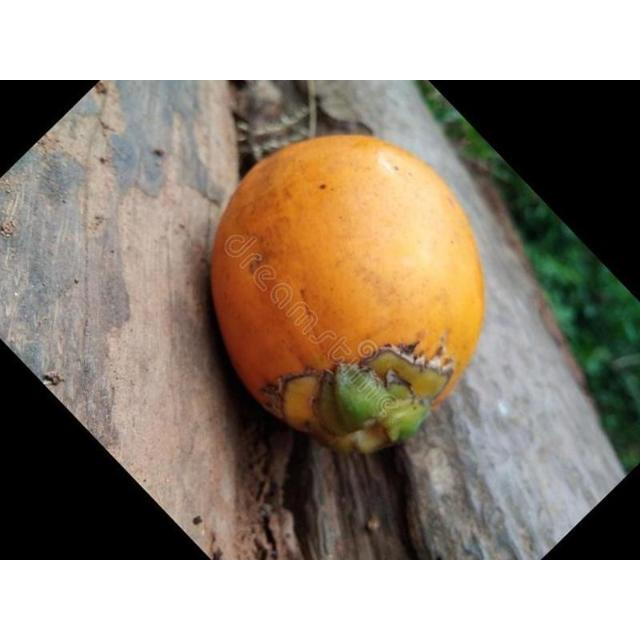good: (208, 134, 486, 457)
